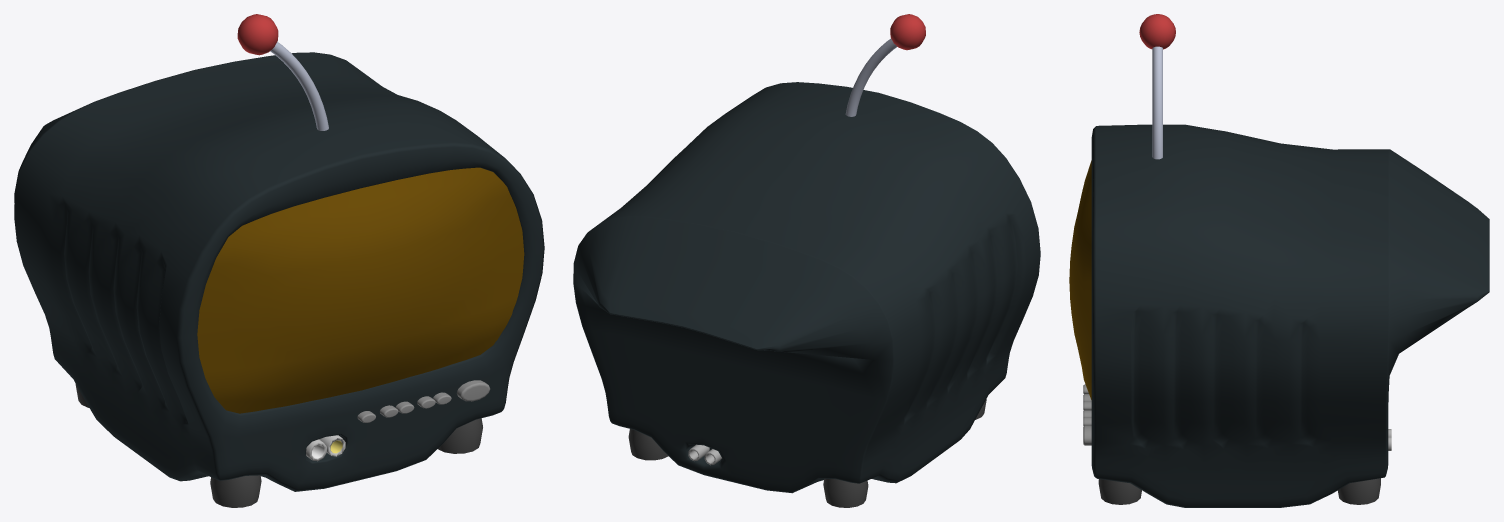
The picture shows the model from 3 angles, left to right: view 1: azimuth 30°, elevation 25°; view 2: azimuth 150°, elevation 25°; view 3: azimuth 270°, elevation 25°; orthographic projection. The views are drawn at different scales.
Visible parts, largest first — view 1: tv, screen, antennaTipHP1, foot, foot1; view 2: tv, antennaTipHP1, foot3, foot2; view 3: tv, screen, antennaTipHP1, foot2, foot1.
Part boxes in pixels (x1,y1,x2,y2): tv: [14, 52, 544, 491]; screen: [197, 167, 524, 413]; antennaTipHP1: [237, 14, 328, 130]; foot: [210, 475, 261, 507]; foot1: [438, 418, 482, 453]; tv: [573, 82, 1040, 493]; antennaTipHP1: [845, 14, 925, 116]; foot3: [823, 478, 868, 507]; foot2: [628, 429, 668, 460]; tv: [1091, 124, 1489, 507]; screen: [1069, 160, 1091, 399]; antennaTipHP1: [1139, 14, 1175, 159]; foot2: [1337, 478, 1380, 504]; foot1: [1098, 479, 1141, 504].
Size of the model in its own units: 25.41 by 30.01 by 28.31.
